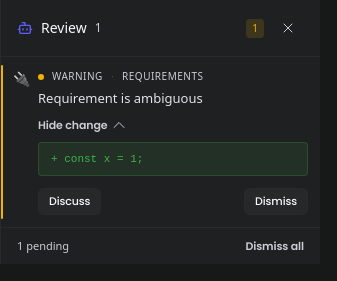
ReviewPanel › expand/collapse functionality › should toggle change visibility
Expected: the text "+ const x = 1;" is shown, [51,153,143,165]
Click the button "Hide change".
click(83, 125)  # box [38,117,128,134]
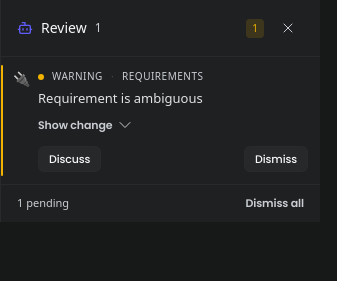
Now the text "Show change" is shown, box [38,117,112,134]
Now the text "+ const x = 1;" is gone
